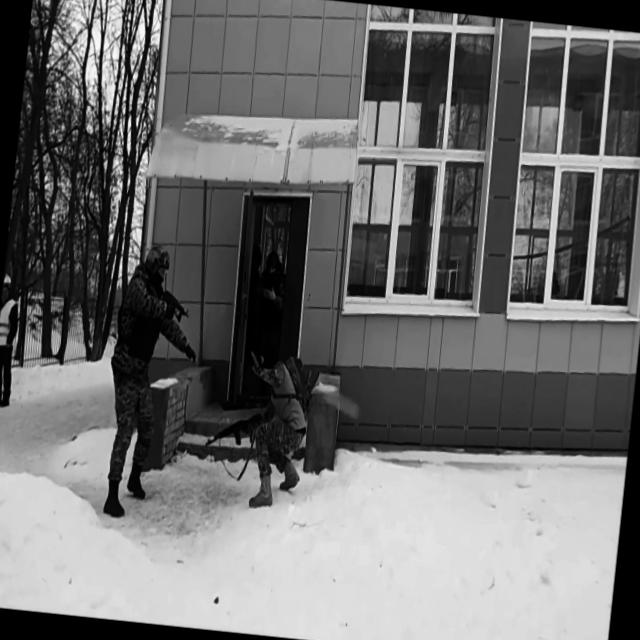gun: (204, 403, 268, 458), (145, 281, 194, 327)
person: (246, 248, 288, 394), (0, 279, 23, 409)
person with a gun: (96, 240, 210, 524), (198, 337, 316, 512)
